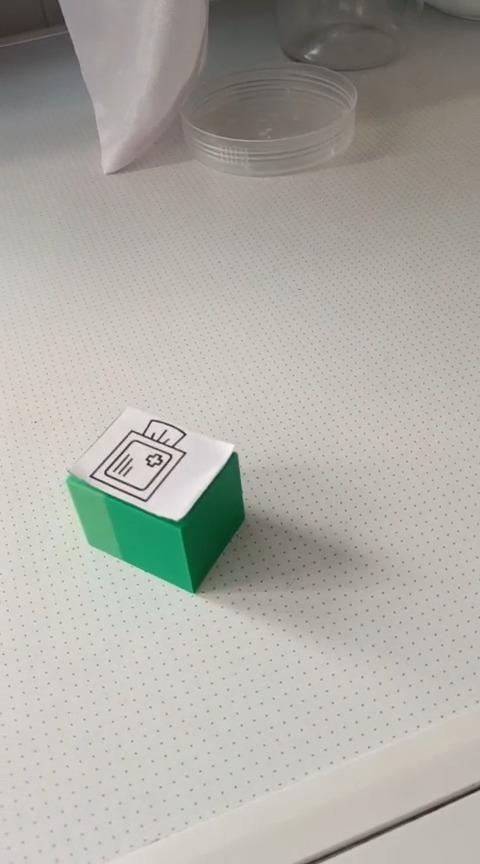Gauze: (64, 405, 245, 594)
